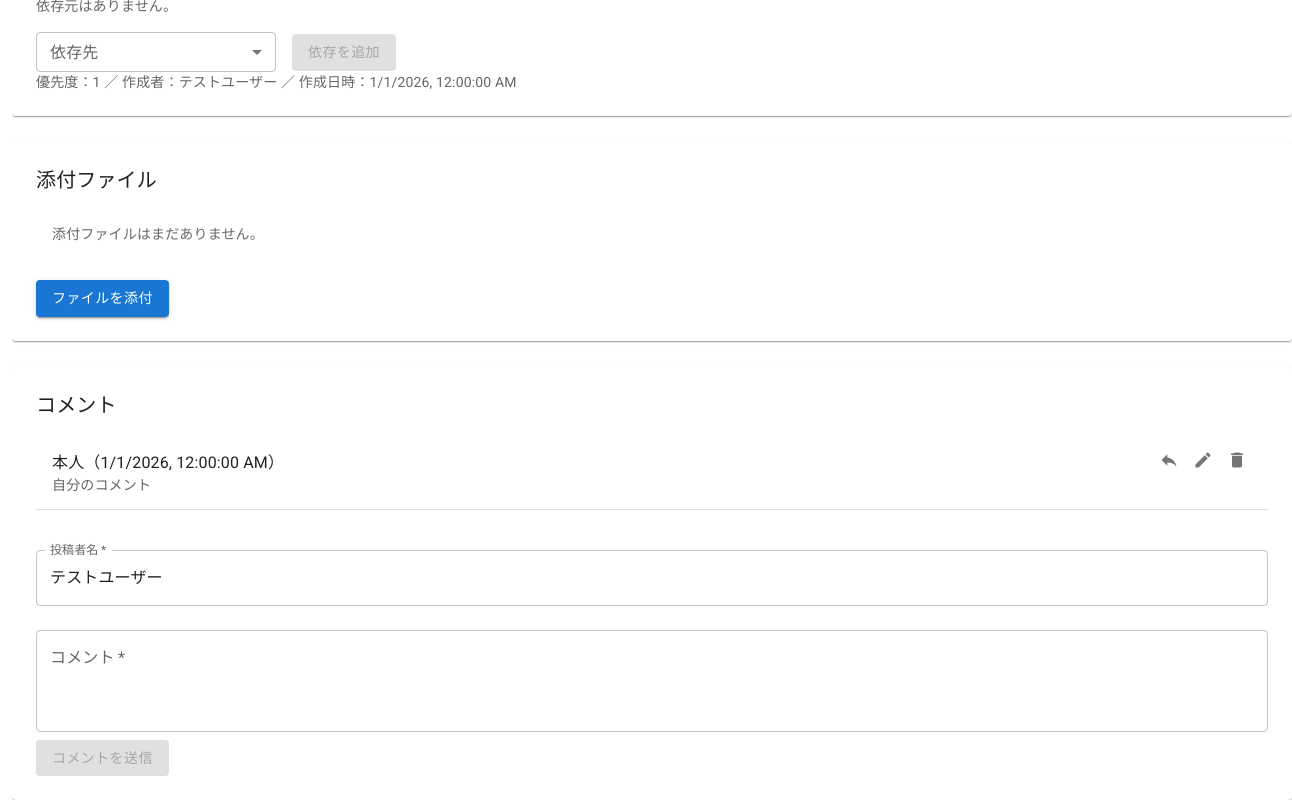
Scenario: BacklogItemDetail › コメント削除・編集の表示制御（#674） › 権限がないユーザーが削除ボタンをクリックして403エラーが返されたとき、エラーメッセージがAlertとして表示される
The width and height of the screenshot is (1292, 800).
(page scrolled)
Check: the text "自分のコメント" is shown, box [52,477,151,493]
Step 1. Click the button named "削除" → [1237, 460], box [1222,445,1252,475]
(page scrolled)
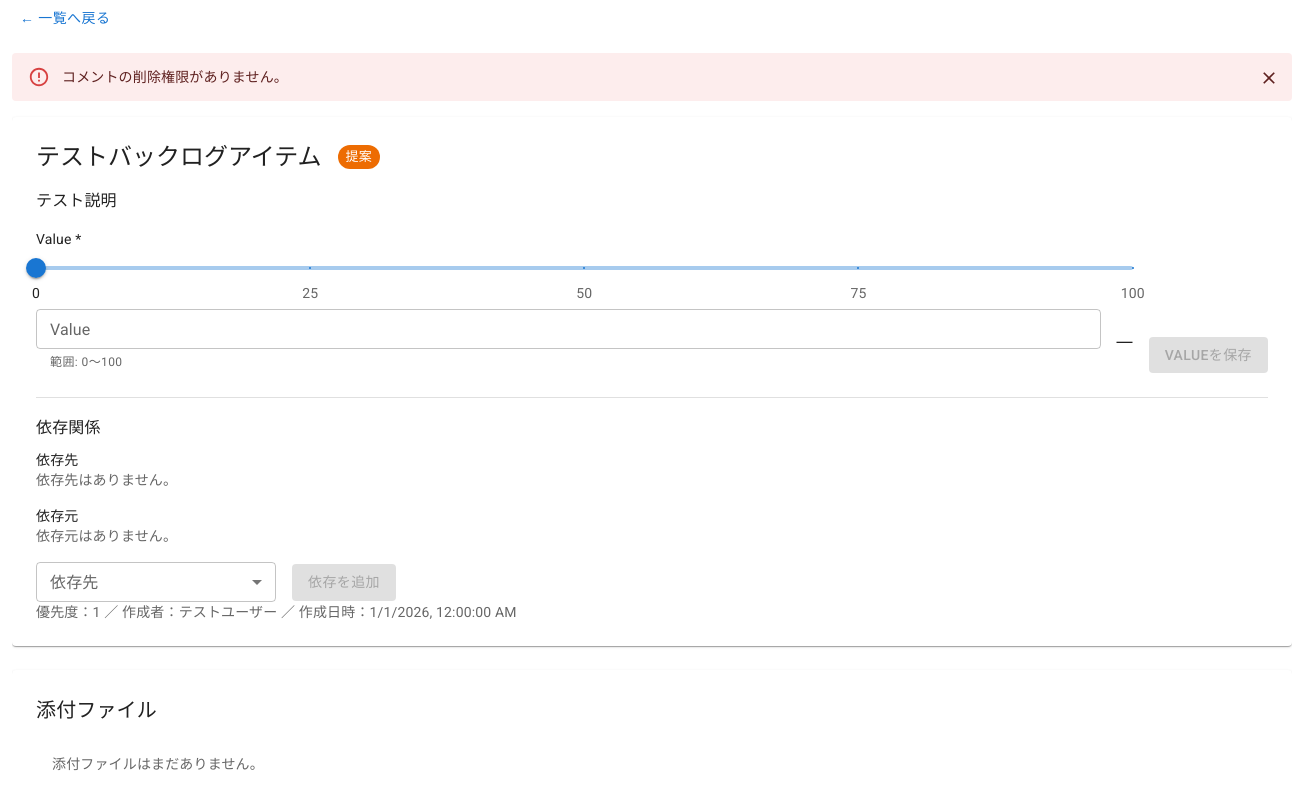
Check: the text "コメントの削除権限がありません。" is shown, box [62,68,288,84]
